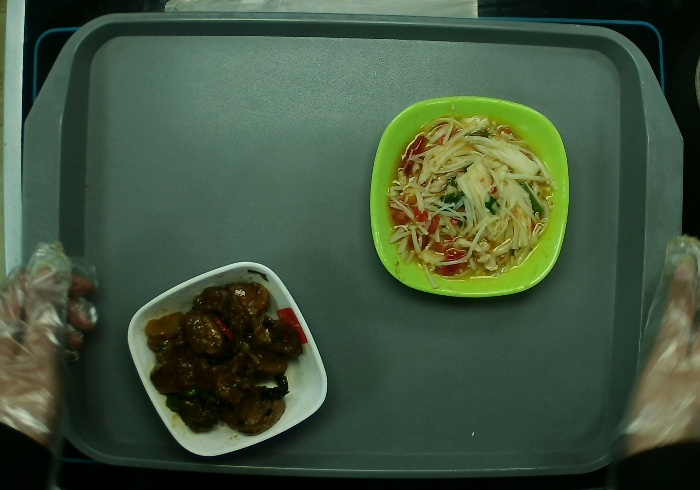SHKJ-Bai_Se_Xiao_Fang_Die: (124, 260, 330, 459)
SHKJ-Lv_Se_Cai_Die: (368, 93, 570, 297)
